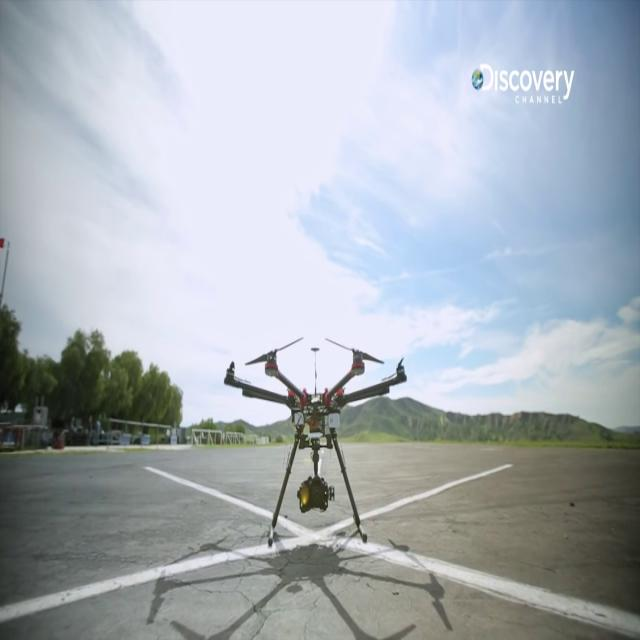drone: (221, 328, 413, 587)
